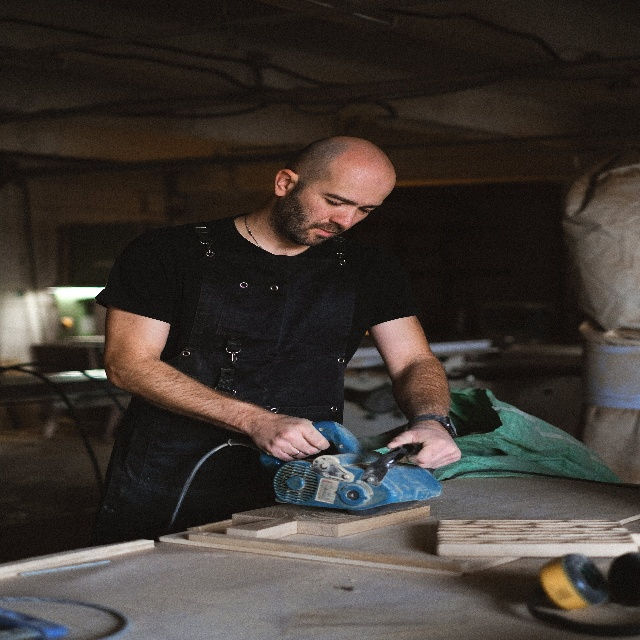Sin_guantes: (254, 408, 330, 465), (387, 422, 462, 470)
